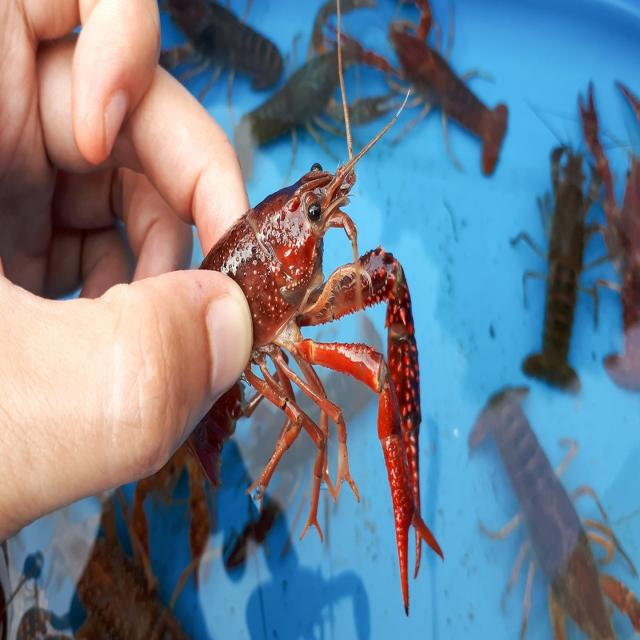Crawfish: (172, 98, 442, 612)
